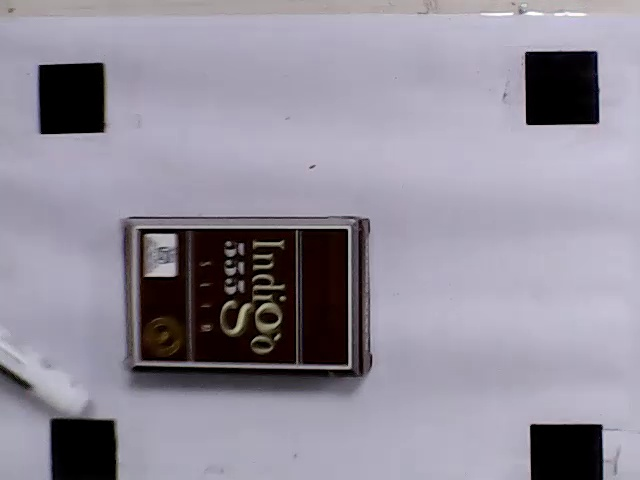BEX: (135, 228, 352, 371)
